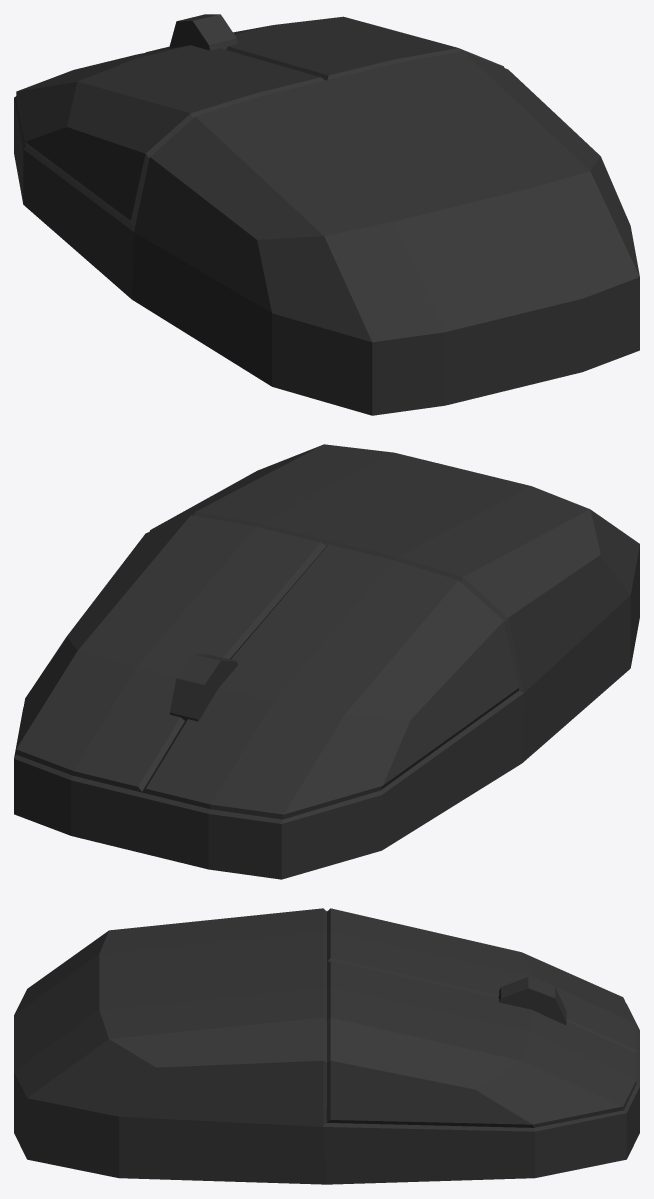
File: SM_Props_Interior_Shop_Electronic_Mouse_02.fbx
3 views of the same model, one above another, from view 1: azimuth 30°, elevation 25°; view 2: azimuth 150°, elevation 25°; view 3: azimuth 270°, elevation 25° (orthographic). The views are drawn at different scales.
Parts seen in each view (by area): view 1: SM_Props_Interior_Shop_Electronic_Mouse_02; view 2: SM_Props_Interior_Shop_Electronic_Mouse_02; view 3: SM_Props_Interior_Shop_Electronic_Mouse_02.
Part boxes in pixels (<box>): SM_Props_Interior_Shop_Electronic_Mouse_02: <box>14,14,639,415</box>; SM_Props_Interior_Shop_Electronic_Mouse_02: <box>14,444,639,879</box>; SM_Props_Interior_Shop_Electronic_Mouse_02: <box>14,908,639,1184</box>.
Size of the model in its own units: 6.63 by 2.82 by 11.
